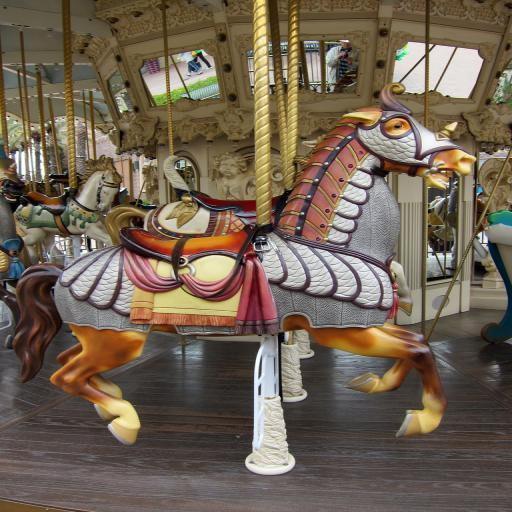horse: (8, 81, 478, 447), (13, 154, 127, 264), (0, 136, 40, 350), (426, 194, 458, 244)
